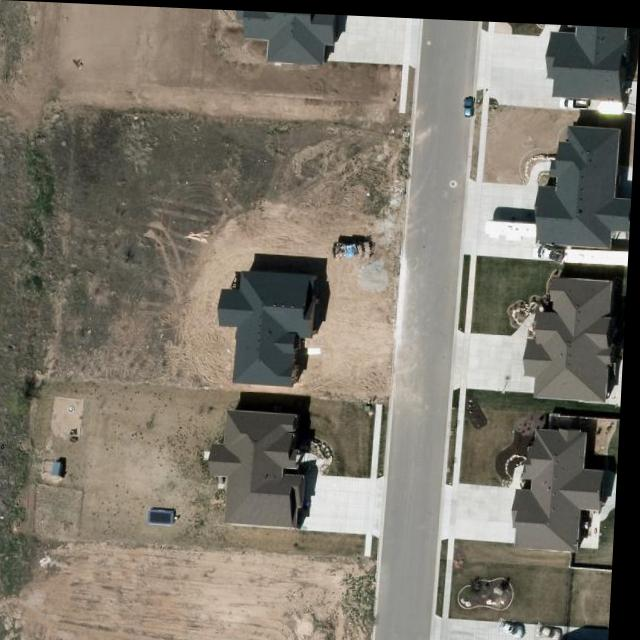vehicle: (331, 234, 379, 261), (501, 616, 534, 636), (536, 238, 569, 257), (541, 619, 571, 637), (560, 92, 597, 105), (463, 92, 478, 115)
